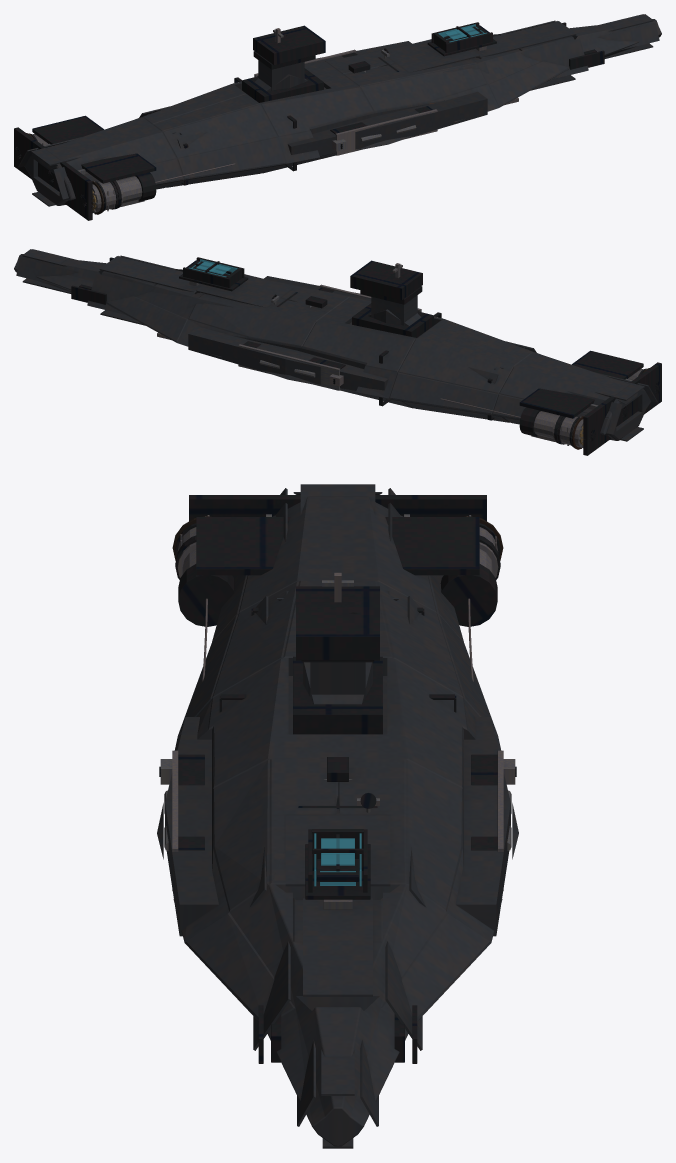
The model's file is warden_production_v1_lod0.glb.
3 views of the same model, one above another, from view 1: azimuth 30°, elevation 25°; view 2: azimuth 150°, elevation 25°; view 3: azimuth 270°, elevation 25° (orthographic). The views are drawn at different scales.
Visible parts, largest first — view 1: LOD0_Hull, LOD0_Armor, LOD0_Mechanical, LOD0_Canopy; view 2: LOD0_Hull, LOD0_Armor, LOD0_Mechanical, LOD0_Canopy; view 3: LOD0_Hull, LOD0_Armor, LOD0_Mechanical, LOD0_Canopy.
Part boxes in pixels (bbox=[...]): LOD0_Hull: bbox=[18, 14, 661, 206]; LOD0_Armor: bbox=[14, 22, 604, 220]; LOD0_Mechanical: bbox=[28, 28, 518, 214]; LOD0_Canopy: bbox=[438, 24, 486, 42]; LOD0_Hull: bbox=[14, 249, 657, 441]; LOD0_Armor: bbox=[71, 257, 661, 455]; LOD0_Mechanical: bbox=[157, 263, 646, 448]; LOD0_Canopy: bbox=[189, 259, 237, 277]; LOD0_Hull: bbox=[157, 484, 518, 1148]; LOD0_Armor: bbox=[175, 495, 500, 1063]; LOD0_Mechanical: bbox=[160, 514, 515, 909]; LOD0_Canopy: bbox=[314, 833, 361, 886].
Size of what is drawn, in the model's own units: 19.56 by 3.89 by 4.99.
8 materials, 8 textured.
